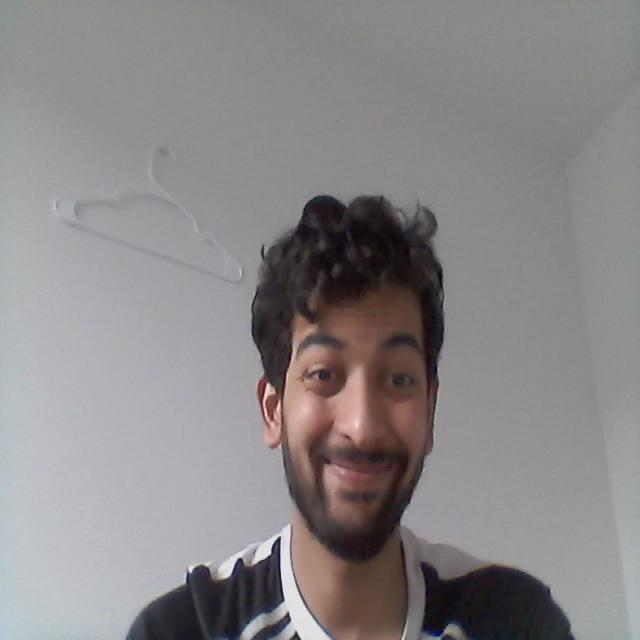nocap: (245, 182, 483, 398)
